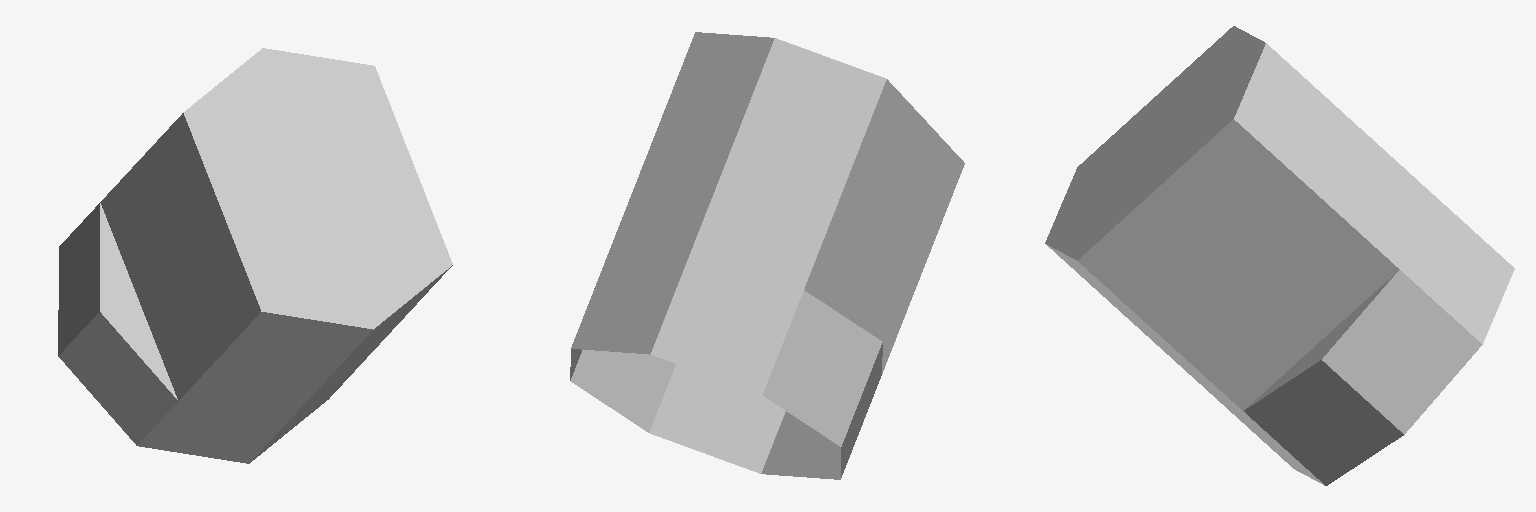
File: FrontLeftBurnerKnob.obj
3 views of the same model, side by side, from view 1: azimuth 30°, elevation 25°; view 2: azimuth 150°, elevation 25°; view 3: azimuth 270°, elevation 25° (orthographic).
Visible parts, largest first — view 1: Back_Left_Dial_geo Dials_grp Stove_grp; view 2: Back_Left_Dial_geo Dials_grp Stove_grp; view 3: Back_Left_Dial_geo Dials_grp Stove_grp.
Boxes of the visible parts, box(x1,y1,x2,y2) form: Back_Left_Dial_geo Dials_grp Stove_grp: box(58, 48, 452, 463); Back_Left_Dial_geo Dials_grp Stove_grp: box(570, 32, 964, 479); Back_Left_Dial_geo Dials_grp Stove_grp: box(1045, 26, 1514, 485).
Size of the model in its own units: 8.15 by 12.24 by 12.24.